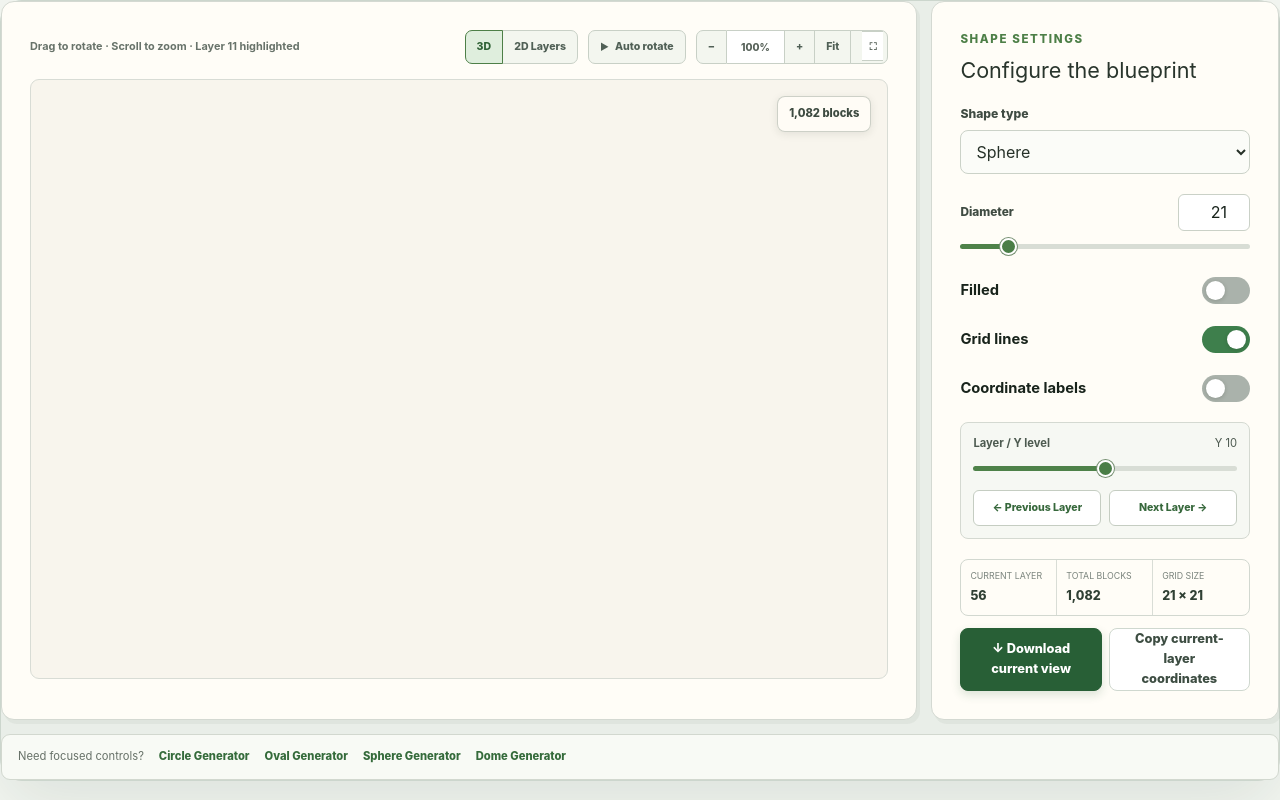
Test: keeps inherited polygon height visible and editable
Select "Rectangle / Square" in the dropdown labelled "Shape type": (1105, 152) [960,130,1250,174]
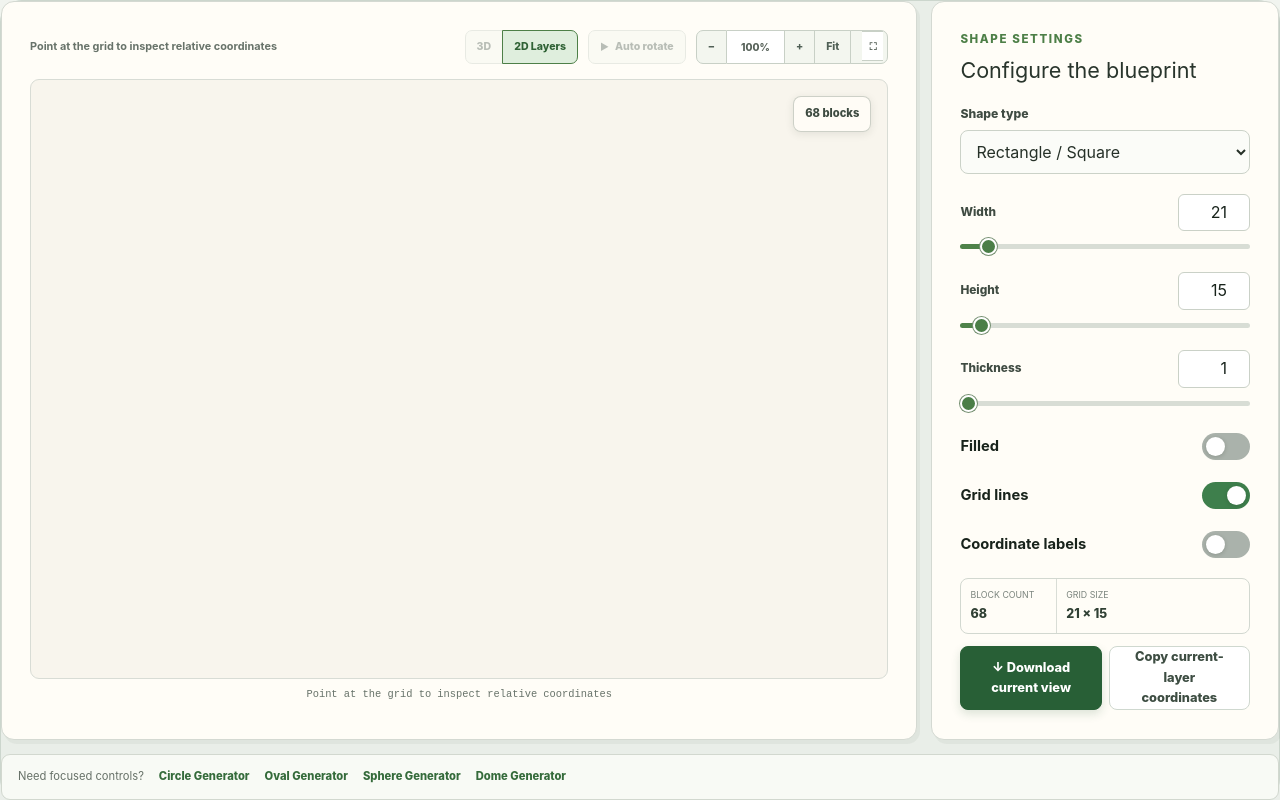
Replace the text in the number field labelled "Height" with "33": (1214, 291) [1178,272,1250,310]
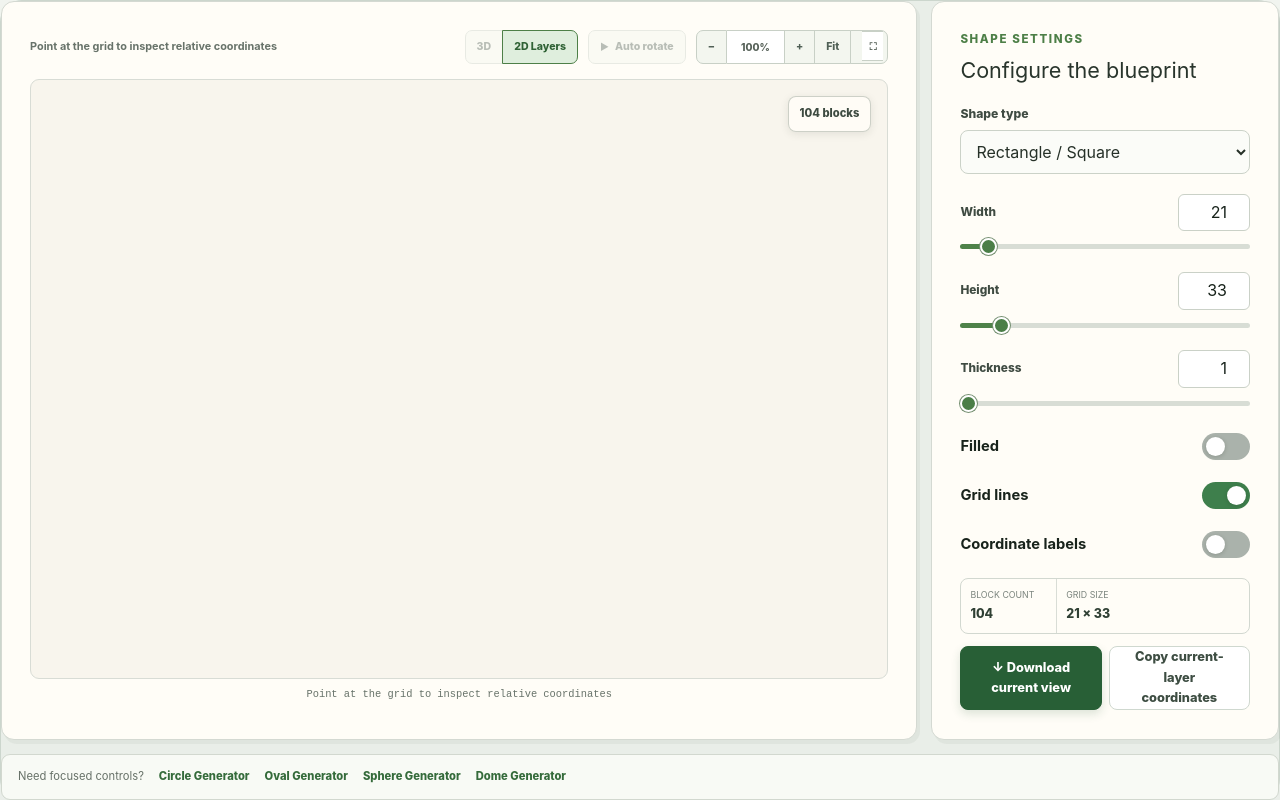
Select "Polygon" in the dropdown labelled "Shape type": (1105, 152) [960,130,1250,174]
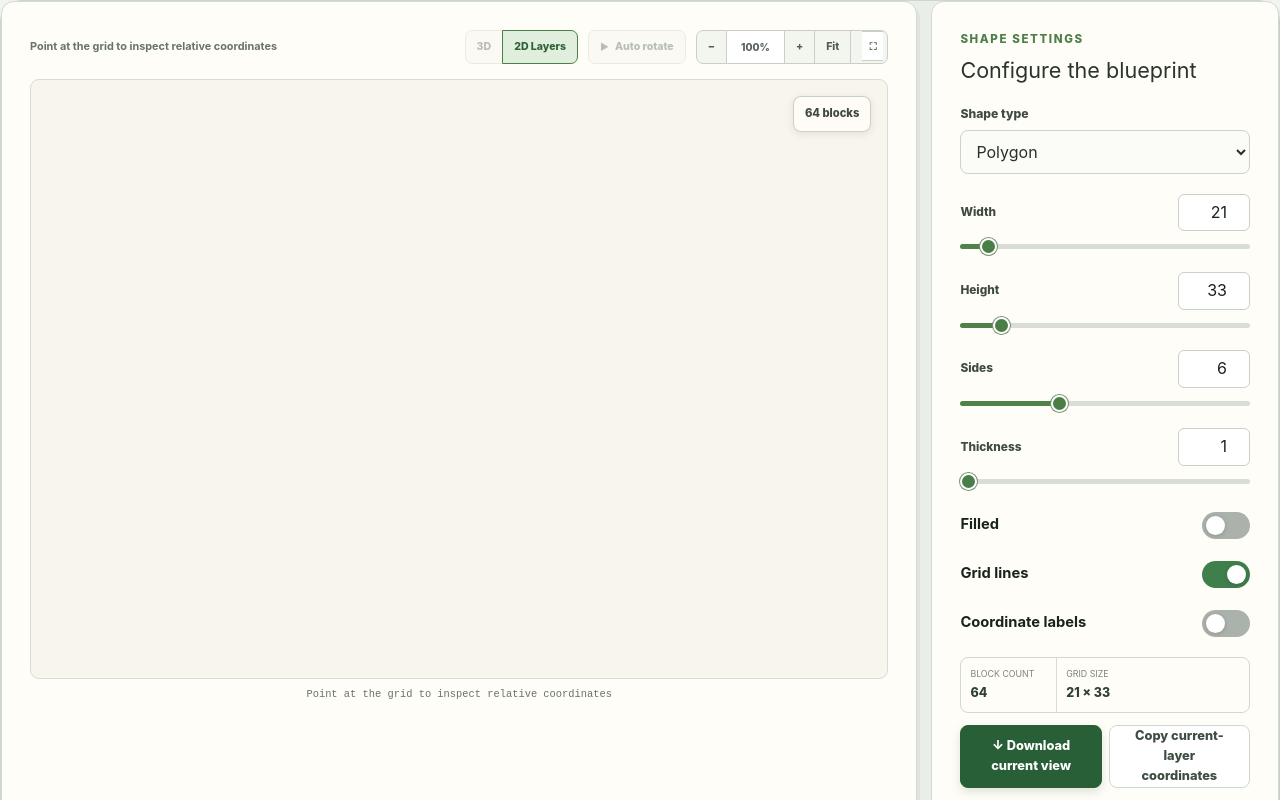
Replace the text in the number field labelled "Height" with "27": (1214, 291) [1178,272,1250,310]
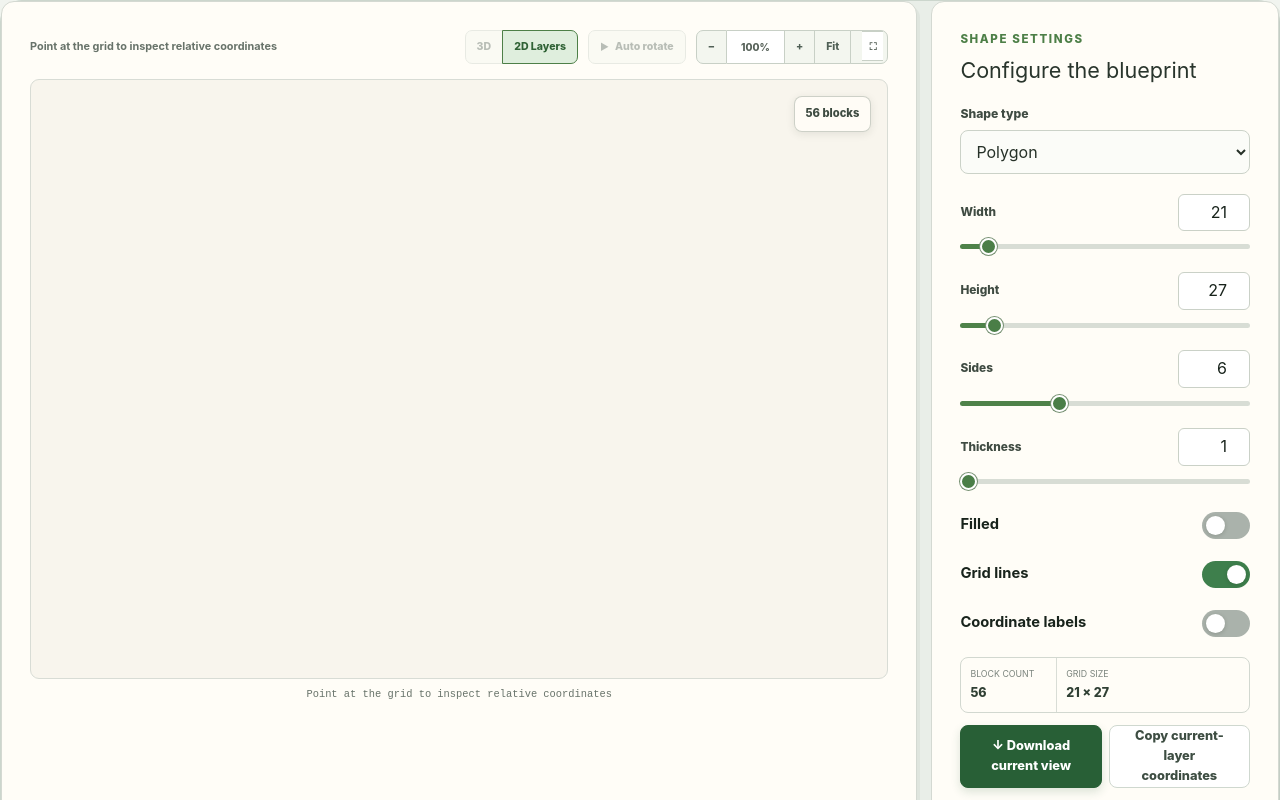
Now the text "21 × 27" is shown, box [1066,685,1109,700]
